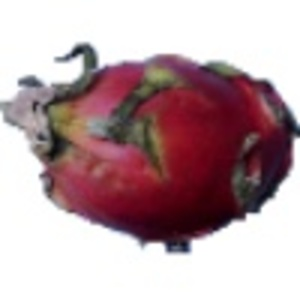pitaia: (1, 42, 300, 256)
